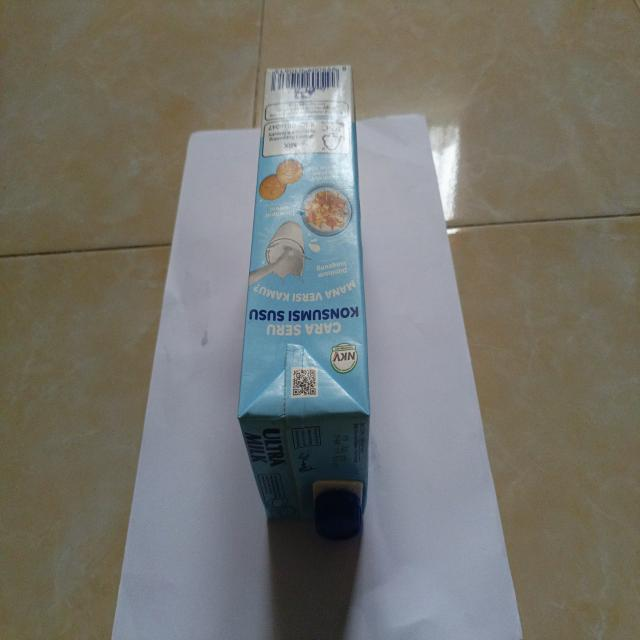indomie-mie-kocok-bandung: (239, 61, 369, 545)
